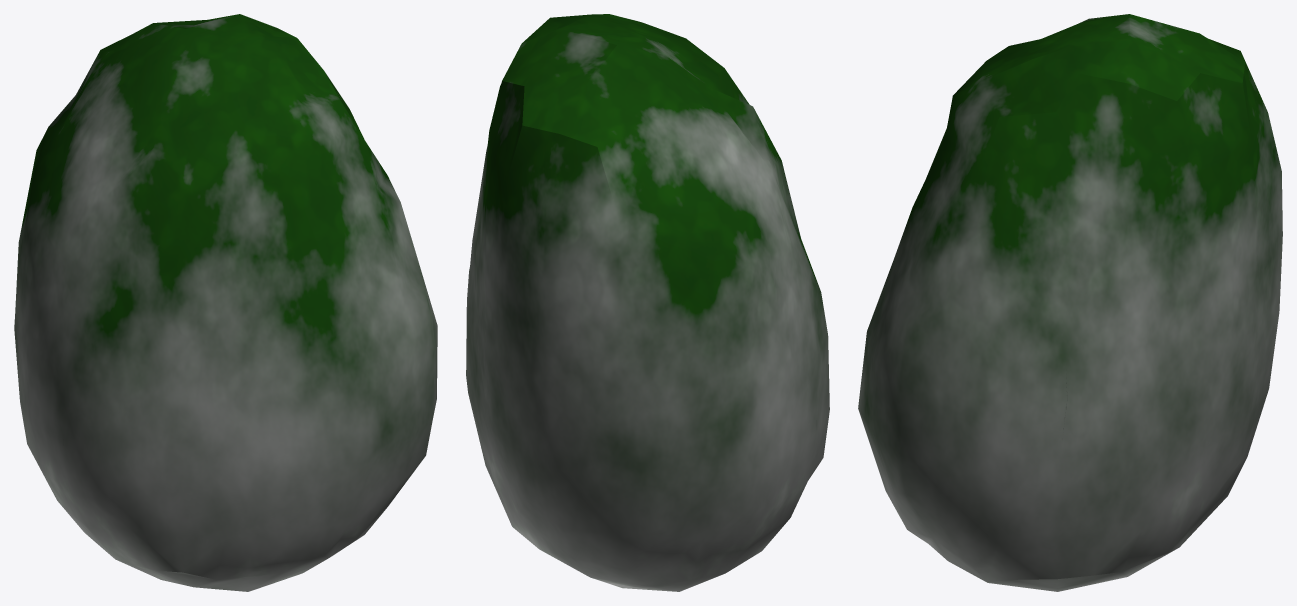
The model's file is rock_1fbx.fbx.
The picture shows the model from 3 angles, left to right: view 1: azimuth 30°, elevation 25°; view 2: azimuth 150°, elevation 25°; view 3: azimuth 270°, elevation 25°; orthographic projection. The views are drawn at different scales.
Parts seen in each view (by area): view 1: rock.001; view 2: rock.001; view 3: rock.001.
Part boxes in pixels (box(x1,y1,x2,y2)): rock.001: box(14, 14, 437, 591); rock.001: box(466, 14, 829, 591); rock.001: box(858, 14, 1282, 591).
Bounding box in the file's own units: 136 × 202 × 138.
